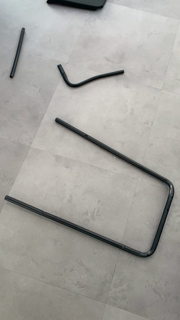L pipe: (56, 62, 128, 92)
U pipe: (1, 116, 176, 260)
i pipe: (9, 26, 29, 81)
